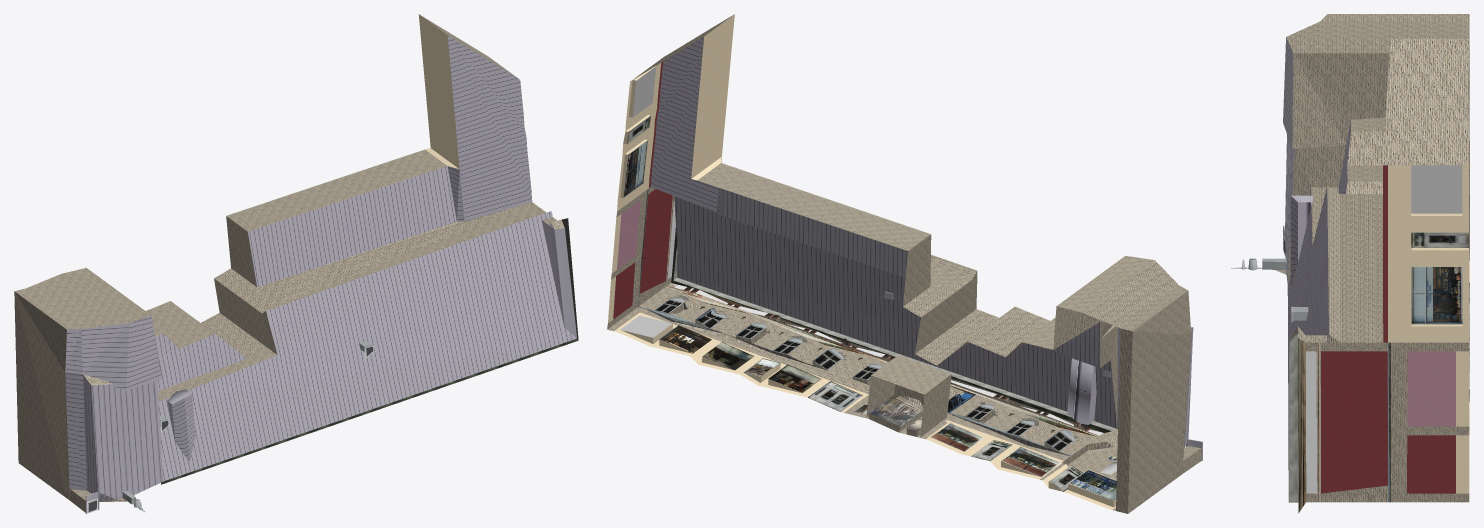
Rendered from Viru23_1-origo.obj.
3 renders of one model, left to right at view 1: azimuth 30°, elevation 25°; view 2: azimuth 150°, elevation 25°; view 3: azimuth 270°, elevation 25°, orthographic. The views are drawn at different scales.
Visible parts, largest first — view 1: polySurface40; view 2: polySurface40; view 3: polySurface40.
Boxes of the visible parts, x1,y1,x2,y2 form: polySurface40: (14,14,578,513); polySurface40: (607,14,1202,513); polySurface40: (1231,14,1469,513).
Bounding box in the file's own units: 44.12 × 29.5 × 13.42.
